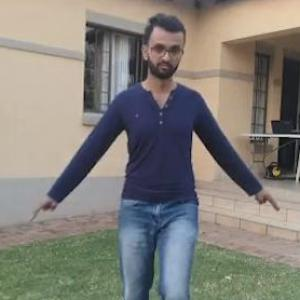land: (95, 58, 221, 276)
